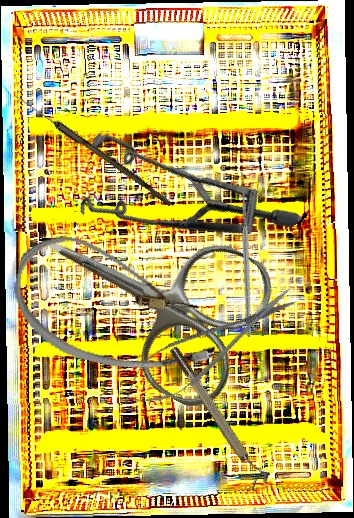Cannula: (2, 227, 232, 388)
Fixation Ring: (167, 340, 272, 492)
Hook Surgical: (167, 168, 317, 338)
Iris Scissors: (10, 170, 285, 418)
Micro Scissor: (110, 272, 308, 423)
Speculum: (50, 73, 302, 326)
Surgical Spoon: (12, 92, 175, 207)
